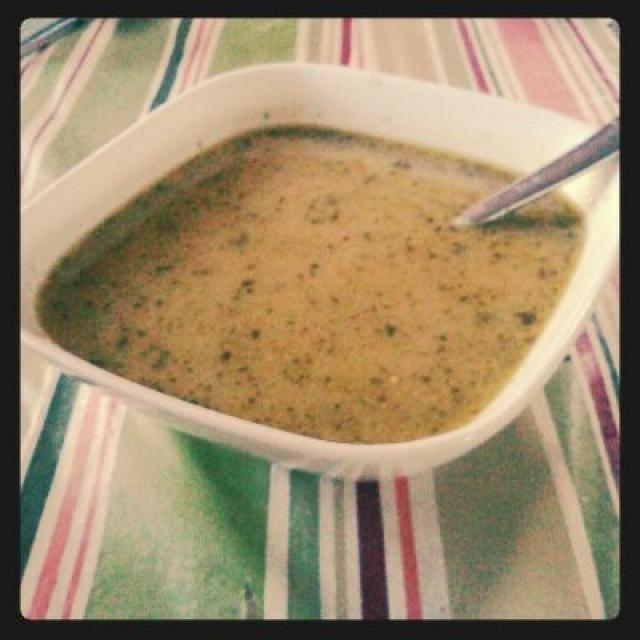汤锅炖物: (48, 52, 618, 514)
